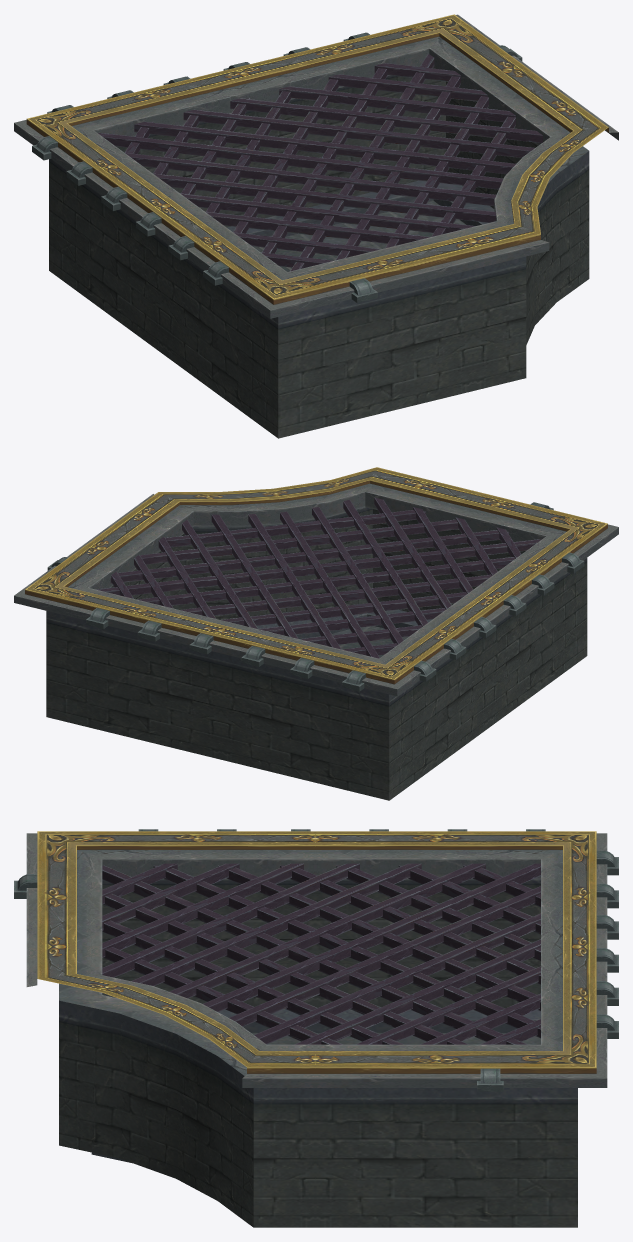
Rendered from di_shi_002.FBX.
3 views of the same model, one above another, from view 1: azimuth 30°, elevation 25°; view 2: azimuth 150°, elevation 25°; view 3: azimuth 270°, elevation 25° (orthographic). The views are drawn at different scales.
Visible parts, largest first — view 1: di_shi_002_a01; view 2: di_shi_002_a01; view 3: di_shi_002_a01.
Part boxes in pixels (x1,y1,x2,y2): di_shi_002_a01: (14, 14, 618, 438); di_shi_002_a01: (14, 467, 618, 800); di_shi_002_a01: (14, 829, 618, 1227).
Bounding box in the file's own units: 1168 × 393 × 1180.
1 material, 1 textured.
